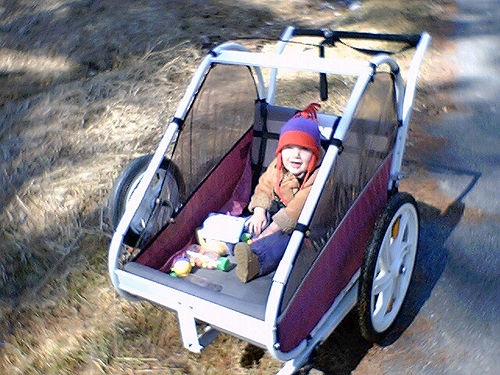head: (279, 117, 321, 175)
person: (191, 100, 328, 282)
